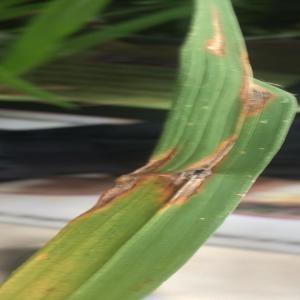Rice_Blast: (151, 129, 243, 206), (80, 134, 182, 203), (237, 43, 283, 119), (200, 1, 236, 54)
